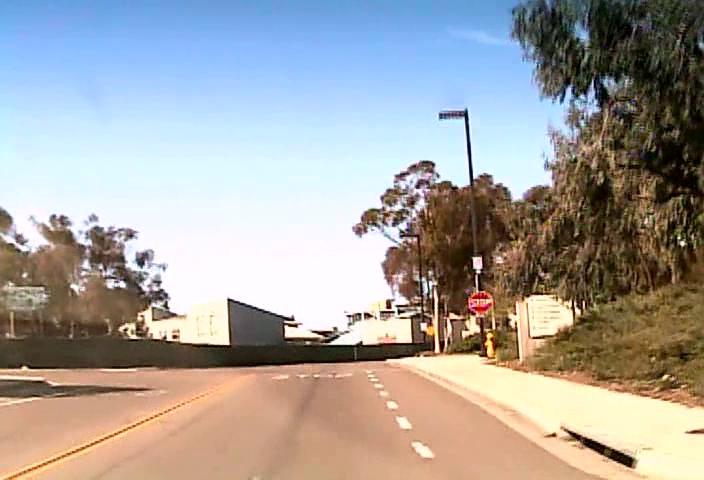stop: (468, 290, 492, 313)
